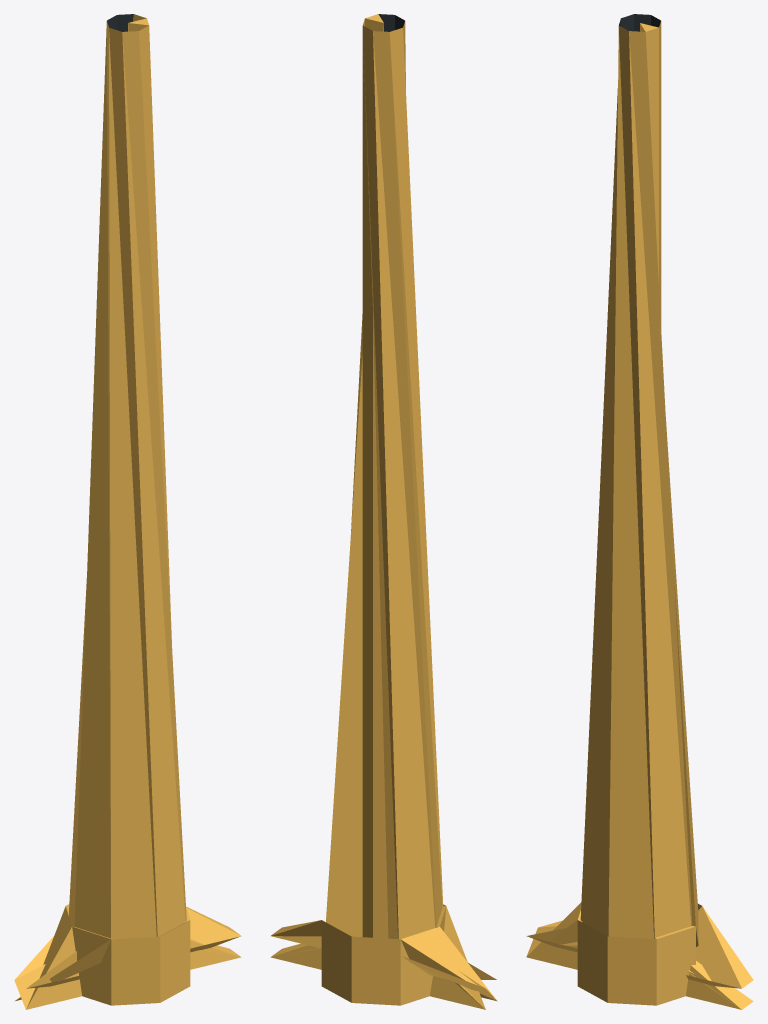
File: street_lamp_lowpoly.obj
The picture shows the model from 3 angles, left to right: view 1: azimuth 30°, elevation 25°; view 2: azimuth 150°, elevation 25°; view 3: azimuth 330°, elevation 25°; orthographic projection.
Visible parts, largest first — view 1: lamp_globe; view 2: lamp_globe; view 3: lamp_globe.
Part boxes in pixels (bbox=[...]): lamp_globe: bbox=[14, 14, 241, 1009]; lamp_globe: bbox=[270, 14, 497, 1009]; lamp_globe: bbox=[526, 21, 753, 1009].
Size of the model in its own units: 0.85 by 3.6 by 0.44.
